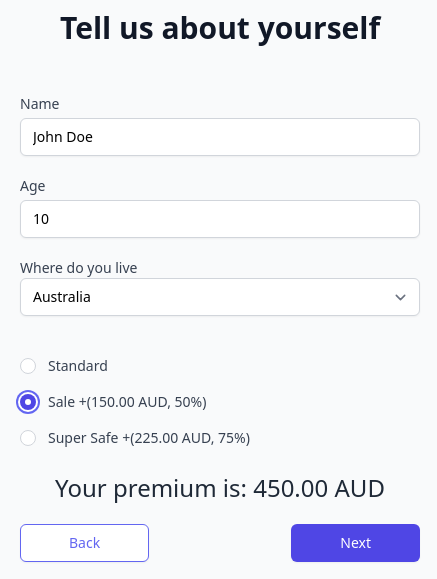
Start Page Spec › Complete form inputs › AU premium should be 525 for 10yrs old - safe
What coordinates should you click on to do the following:
click the radio button labelled "Super Safe +(225.00 AUD, 75%)"
I would click on:
 (28, 438)
Its box is [20, 430, 36, 446].
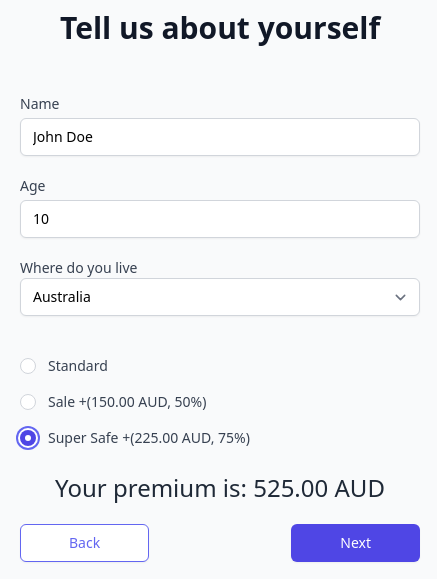
Now the heading "Your premium is: 525.00 AUD" is shown, box [55, 471, 385, 504]
